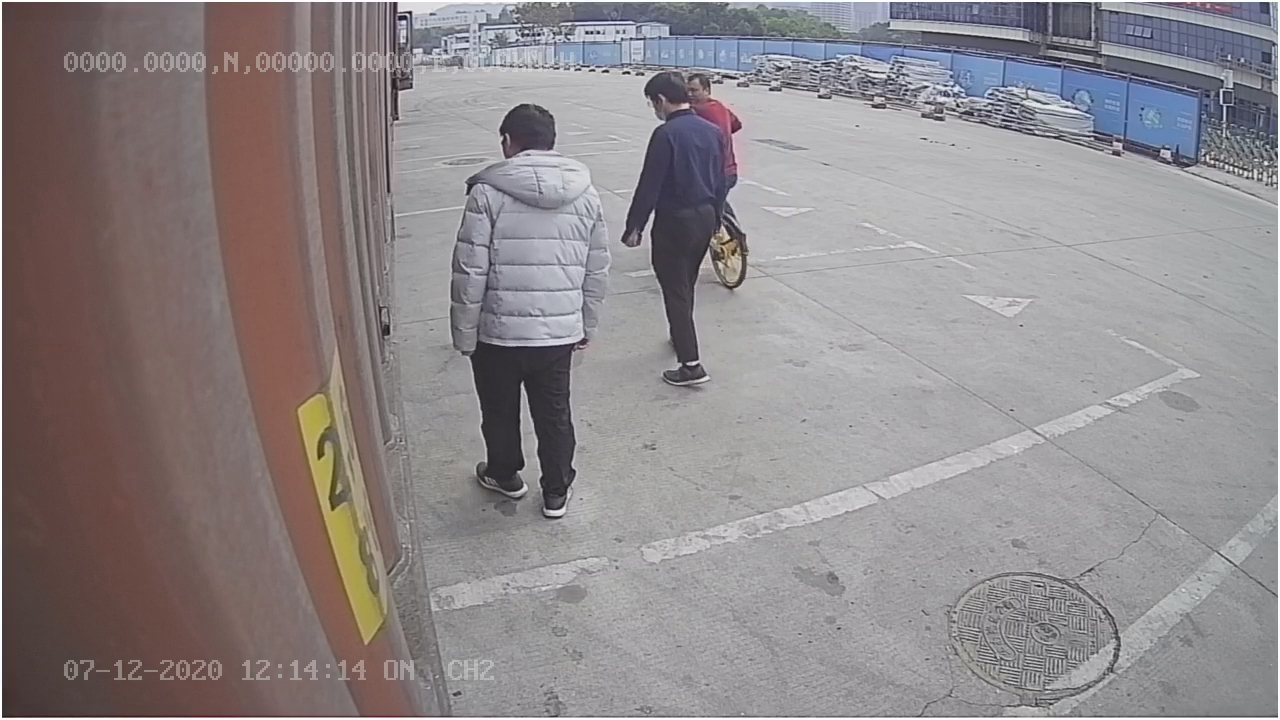person: (448, 102, 613, 517)
